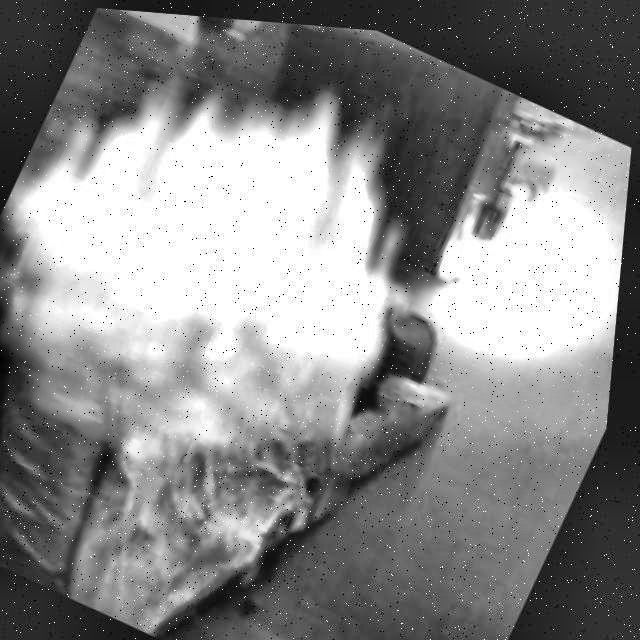Smoke: (0, 0, 500, 555)
